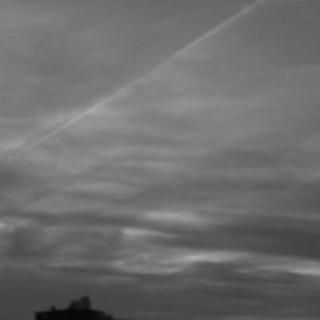Contrails: (0, 1, 320, 232)
